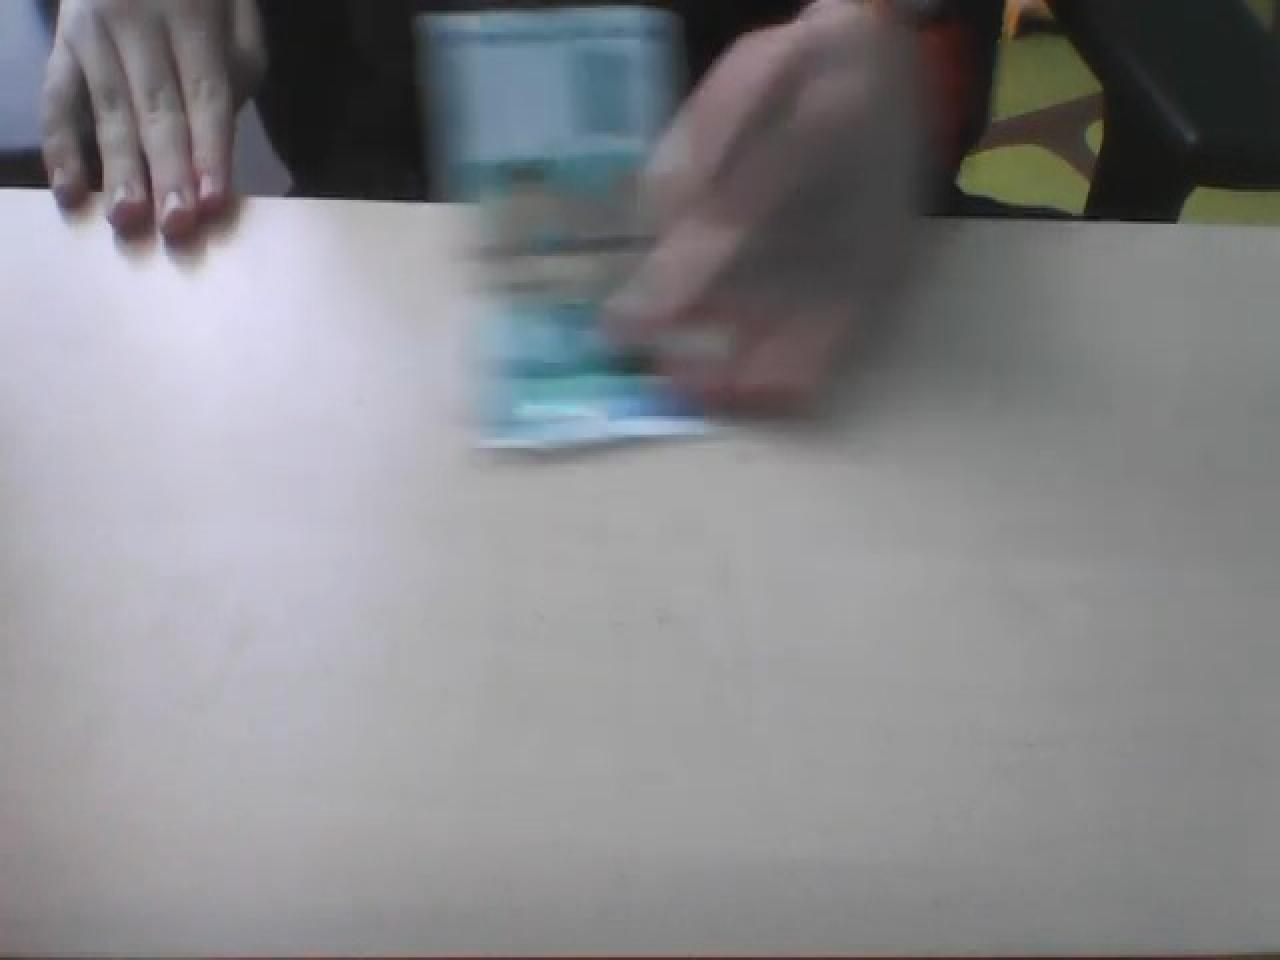100leva: (410, 3, 722, 456)
